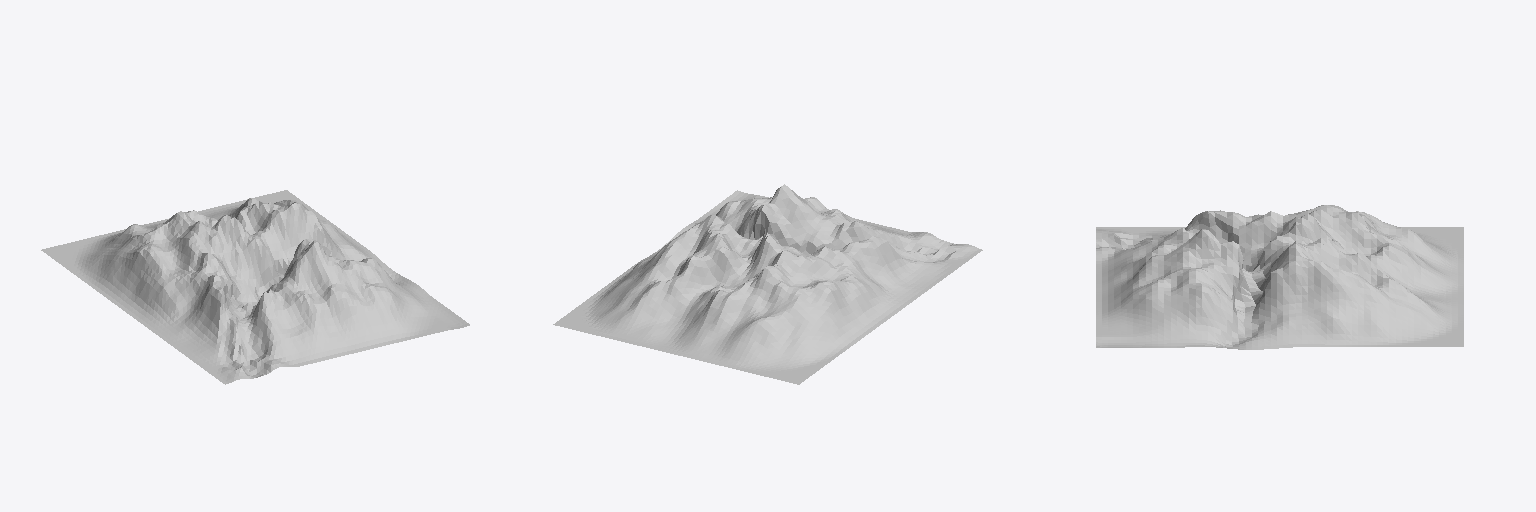
The model's file is mount.obj.
The picture shows the model from 3 angles: view 1: azimuth 30°, elevation 25°; view 2: azimuth 150°, elevation 25°; view 3: azimuth 270°, elevation 25°; orthographic projection.
Visible parts, largest first — view 1: Landscape; view 2: Landscape; view 3: Landscape.
Boxes of the visible parts, x1,y1,x2,y2 form: Landscape: [41, 190, 469, 384]; Landscape: [553, 184, 982, 384]; Landscape: [1096, 205, 1463, 349].
Size of the model in its own units: 6.47 by 1.88 by 8.39.